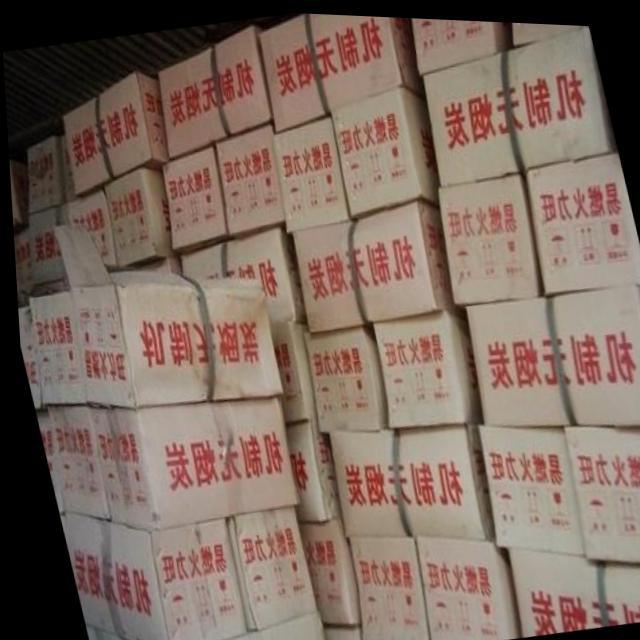box: (50, 223, 278, 407), (420, 20, 615, 184), (77, 392, 293, 528), (461, 276, 640, 420), (55, 511, 238, 640), (286, 197, 449, 334), (256, 10, 425, 130), (323, 420, 490, 541), (521, 146, 640, 291), (328, 79, 438, 215), (159, 23, 268, 157), (436, 166, 541, 304), (471, 420, 577, 553), (59, 70, 169, 198), (176, 217, 303, 323), (367, 303, 477, 424), (500, 544, 640, 632), (218, 502, 311, 631), (557, 419, 640, 557), (409, 535, 507, 640), (269, 105, 348, 230), (303, 319, 387, 430), (340, 534, 422, 640), (212, 119, 283, 235), (37, 402, 101, 520), (157, 139, 223, 253), (99, 166, 167, 265), (292, 515, 352, 624), (279, 415, 336, 522), (26, 291, 77, 406), (413, 14, 515, 70), (51, 188, 116, 267), (266, 319, 311, 422), (24, 129, 73, 212), (208, 607, 314, 640), (25, 204, 65, 287), (31, 407, 54, 511), (14, 307, 37, 409), (103, 249, 176, 275), (7, 156, 25, 235), (11, 226, 27, 308), (313, 622, 355, 640), (26, 279, 67, 296), (79, 625, 120, 640)
